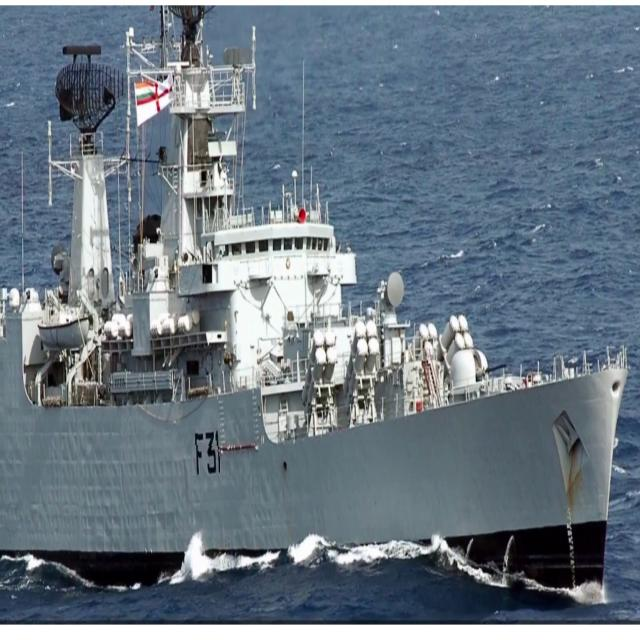OCR: (188, 422, 220, 481)
